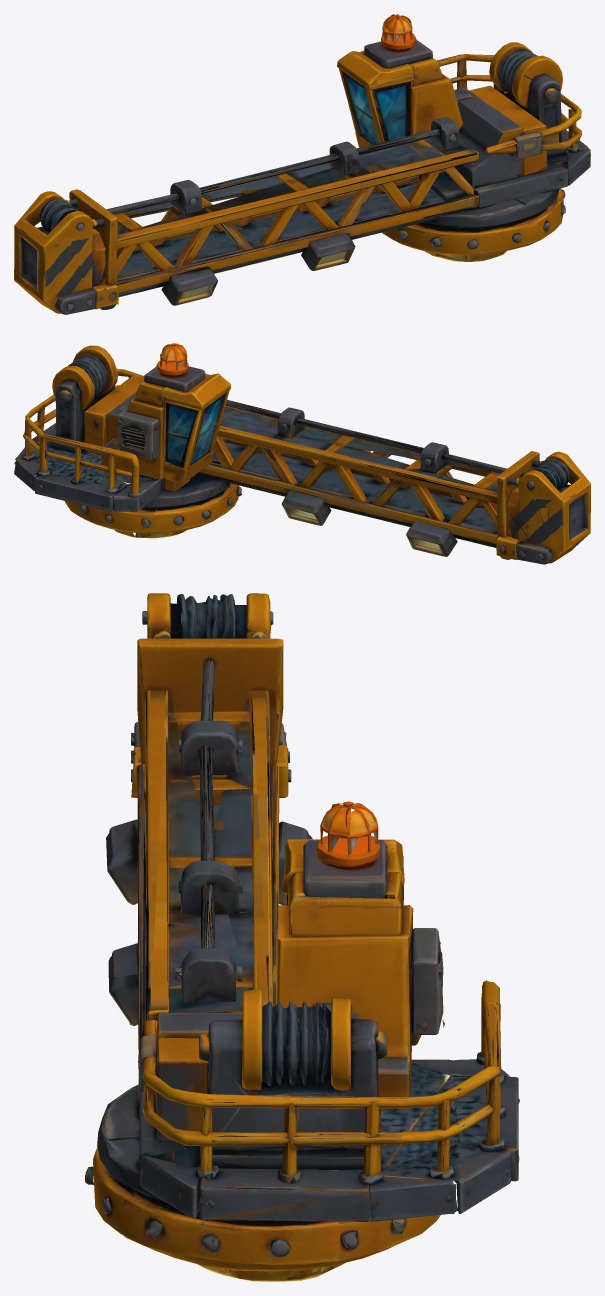
The model's file is crane_jib.glb.
The picture shows the model from 3 angles, top to bottom: view 1: azimuth 30°, elevation 25°; view 2: azimuth 150°, elevation 25°; view 3: azimuth 270°, elevation 25°; orthographic projection. The views are drawn at different scales.
Size of what is drawn, in the model's own units: 2.64 by 0.9999 by 0.977.
Materials: 1 (1 with a texture image).
